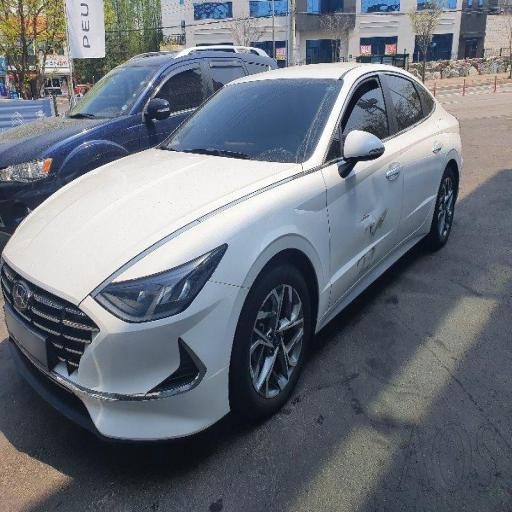scratch: (70, 318, 238, 440), (326, 196, 404, 284)
